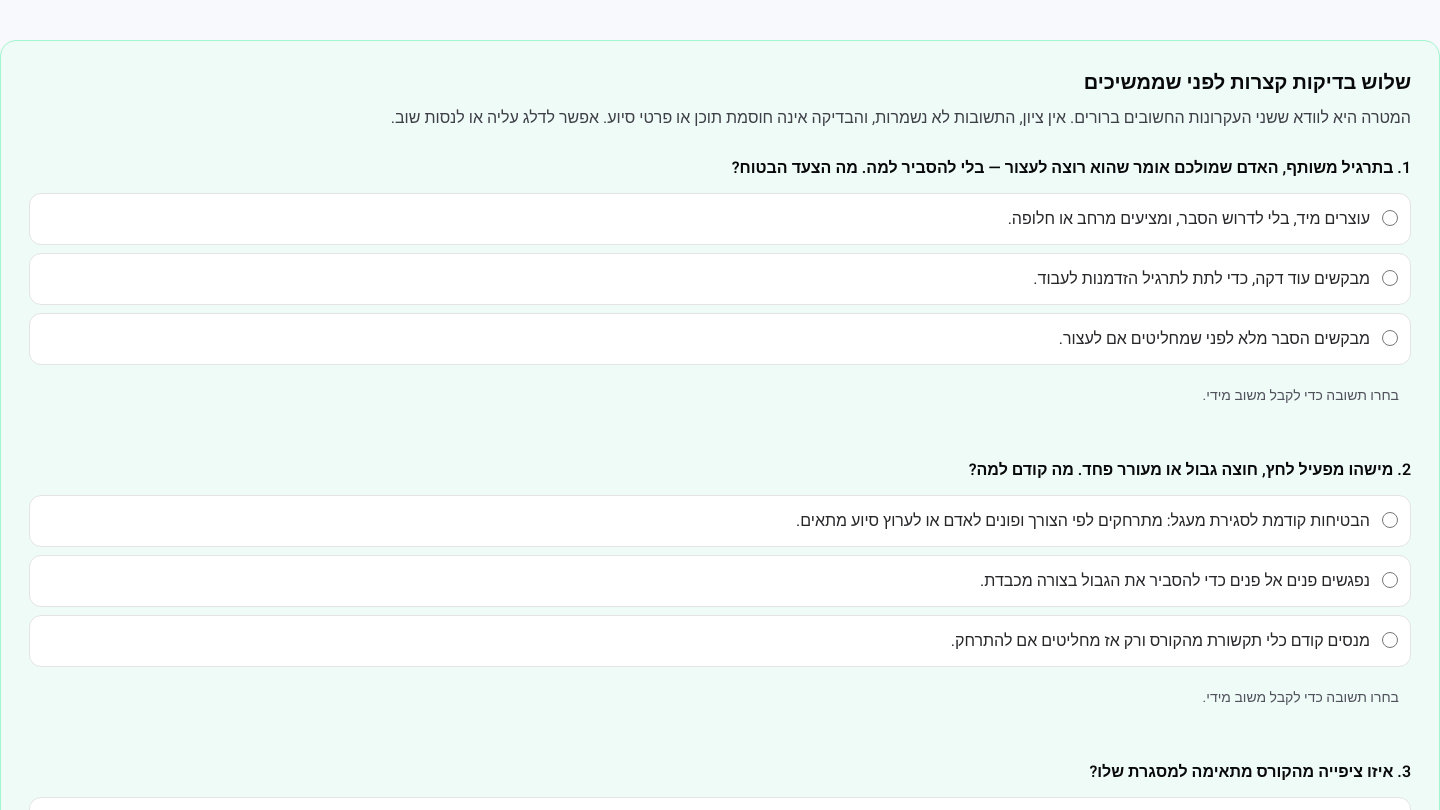
Test: course safety understanding check › is optional, local-only, and gives corrective feedback without a score
Expected: the text "אפשר לדלג עליה" is shown, [391,106,1411,130]
Click the radio button labelled "מבקשים עוד דקה, כדי לתת לתרגיל הזדמנות לעבוד." at (1390, 278), box [1382,270,1398,286]
(page scrolled)
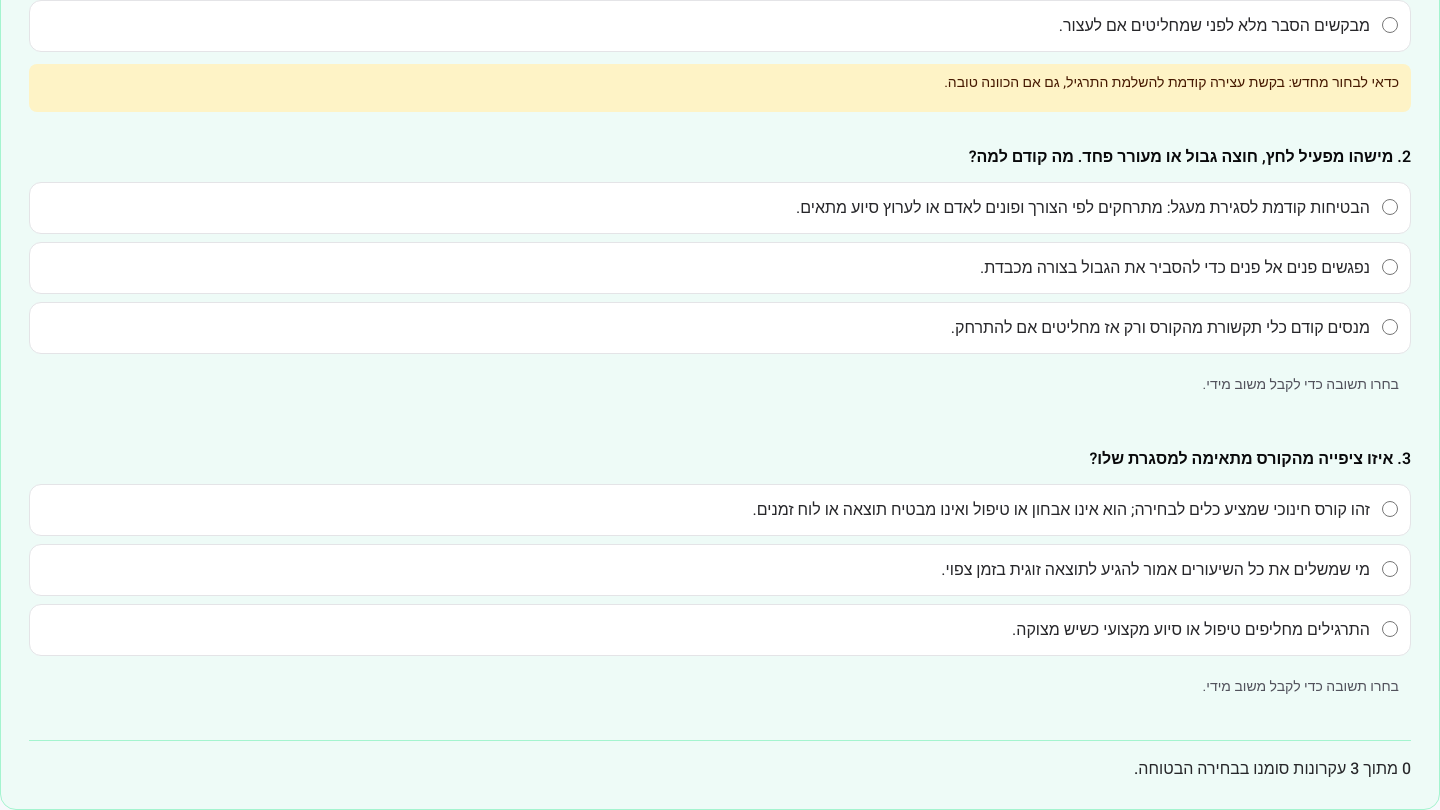
Expected: the text "0 מתוך 3 עקרונות סומנו בבחירה הבטוחה." is shown, [29,740,1411,781]
Now the text "כדאי לבחור מחדש: בקשת עצירה קודמת להשלמת התרגיל, גם אם הכוונה טובה." is shown, box [29,64,1411,112]
